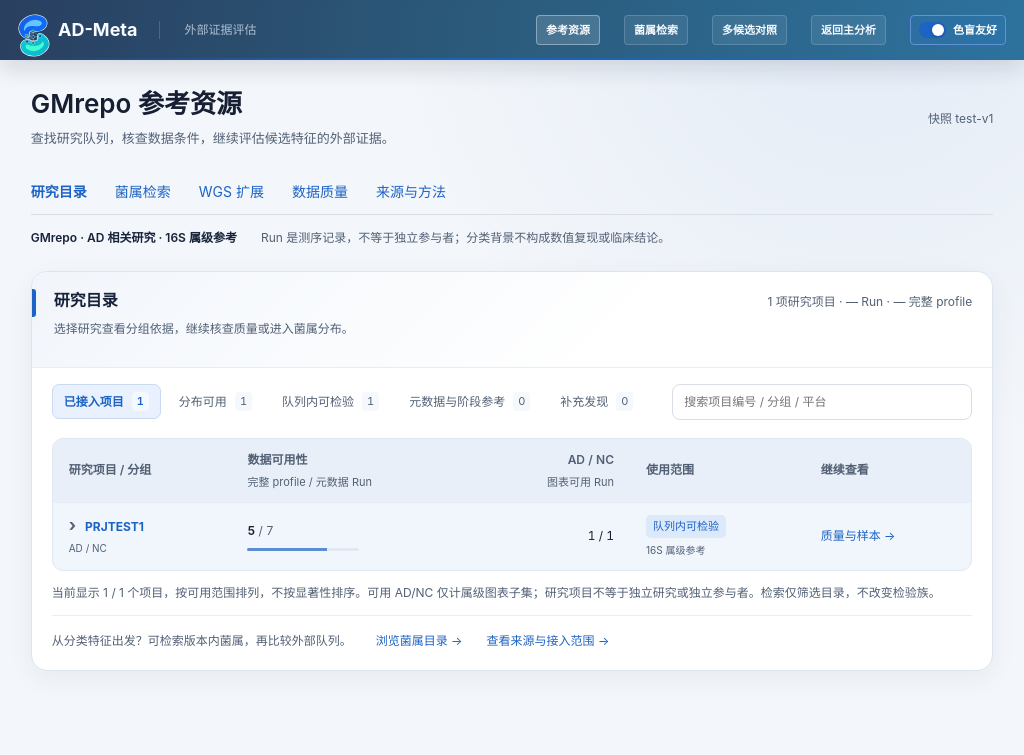
Test: study details lead to the selected cohort quality and genus directory, with no automatic genus selection
The width and height of the screenshot is (1024, 755).
Step 1. Click the button "PRJTEST1" → x=106, y=526, box [69,517,144,536]
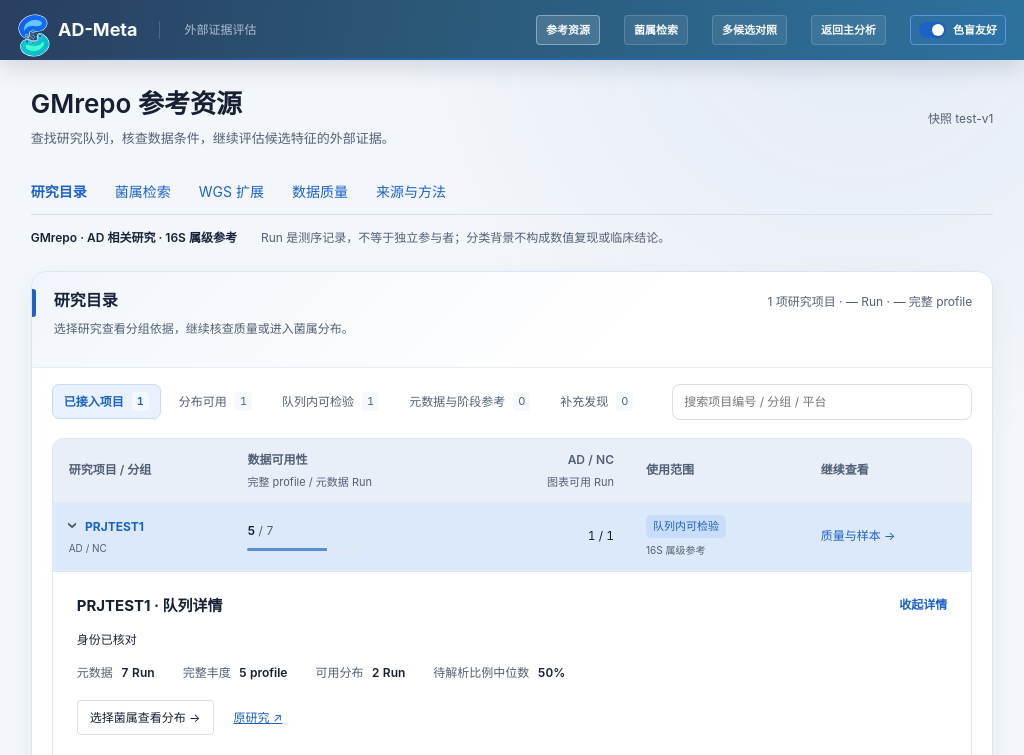
expect the heading "PRJTEST1 · 队列详情" is shown: met, box [77,592,222,619]
Step 2. Click the link "选择菌属查看分布 →" → x=145, y=718, box [77,700,214,736]
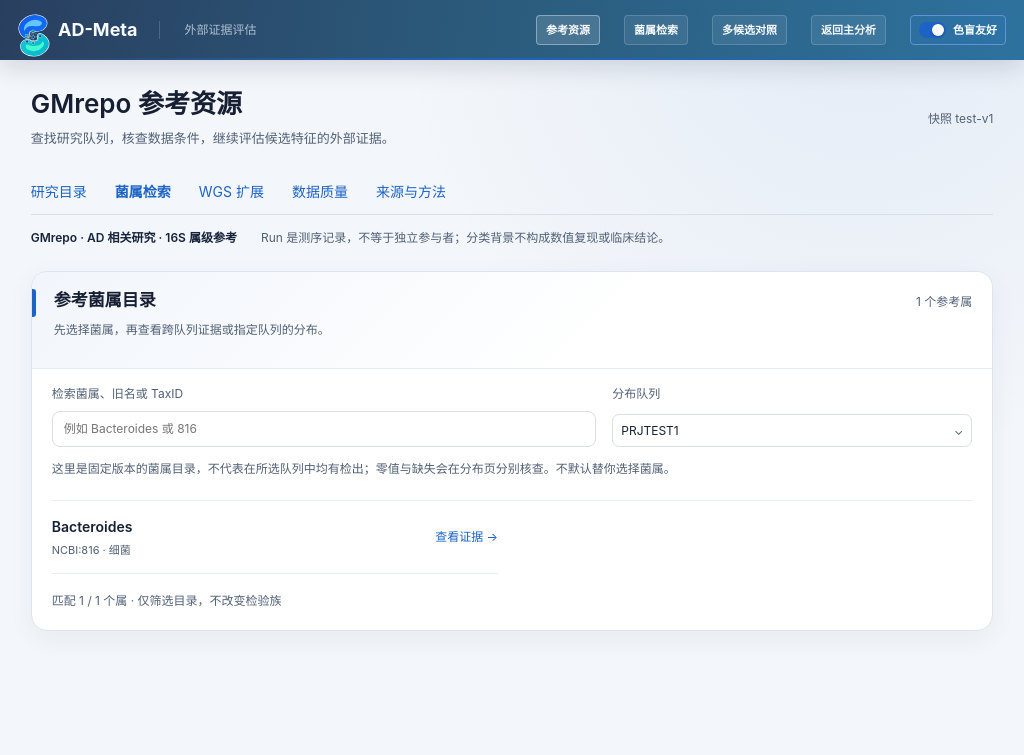
expect the text "PRJTEST1" is shown: met, box [621,422,679,440]
expect the heading "参考菌属目录" is shown: met, box [54,290,156,310]
